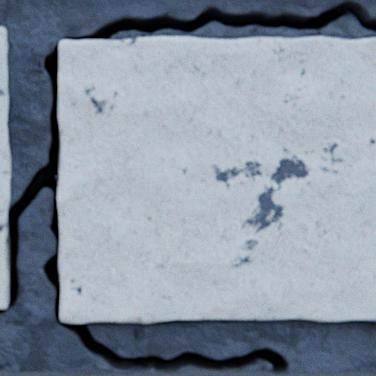brick: (57, 37, 375, 322), (0, 28, 10, 307), (0, 368, 375, 375)
crack: (0, 0, 375, 373)
